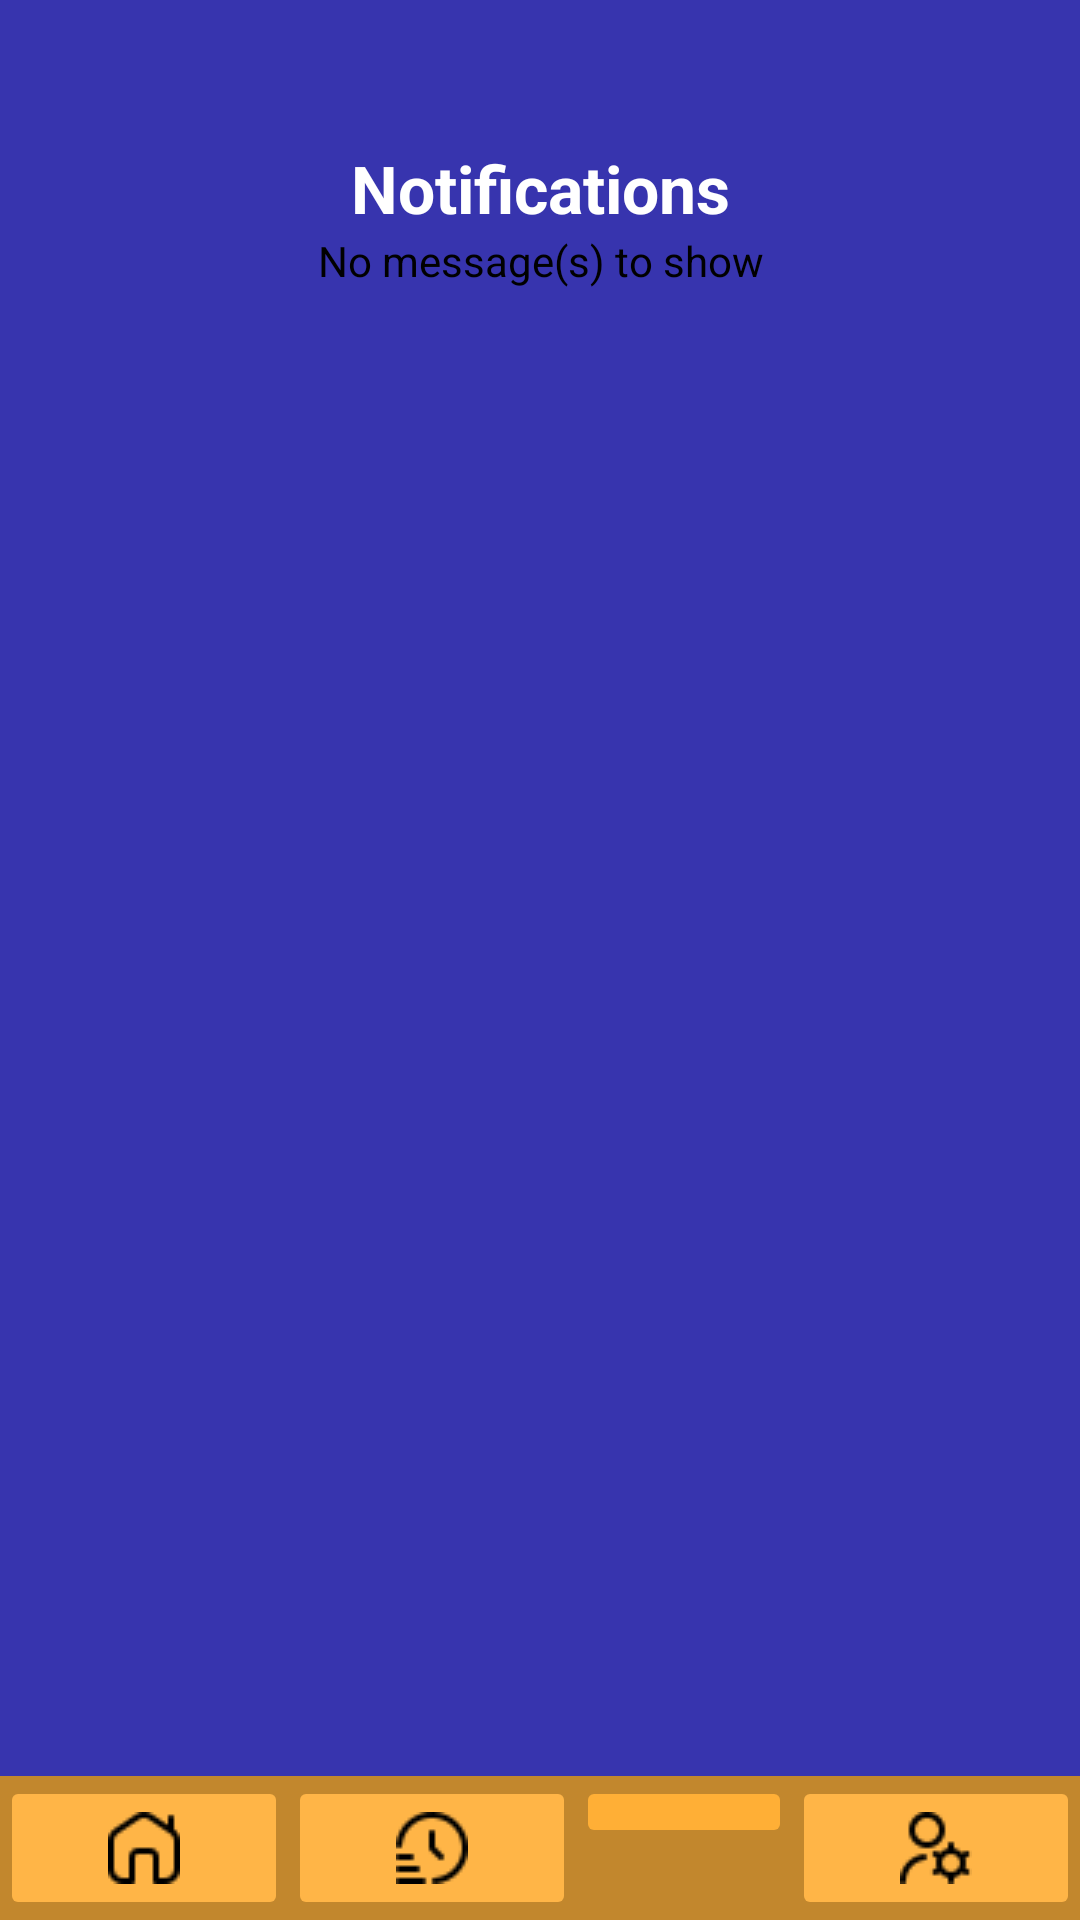

Point at icon controls on the screen. Image size 1080 x 1920, points as (x=x, y=y).
Activity: (x=432, y=1848)
Home: (x=144, y=1848)
Profile: (x=936, y=1848)
